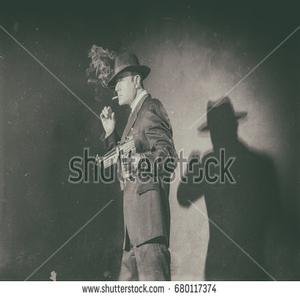cigarette: (110, 95, 123, 104)
